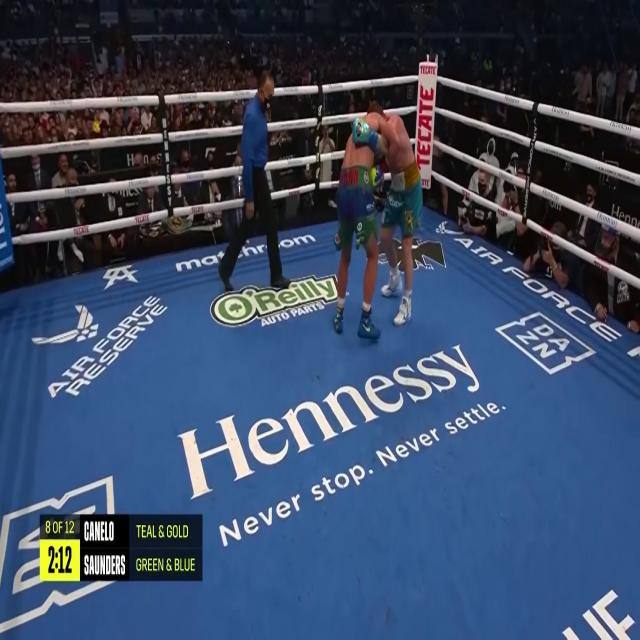boxer_1: (342, 132, 375, 167), (365, 111, 385, 130)
boxer_2: (369, 102, 415, 172), (353, 116, 379, 150)
